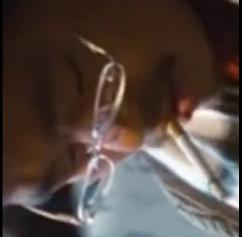Cigarette: (167, 122, 225, 200)
